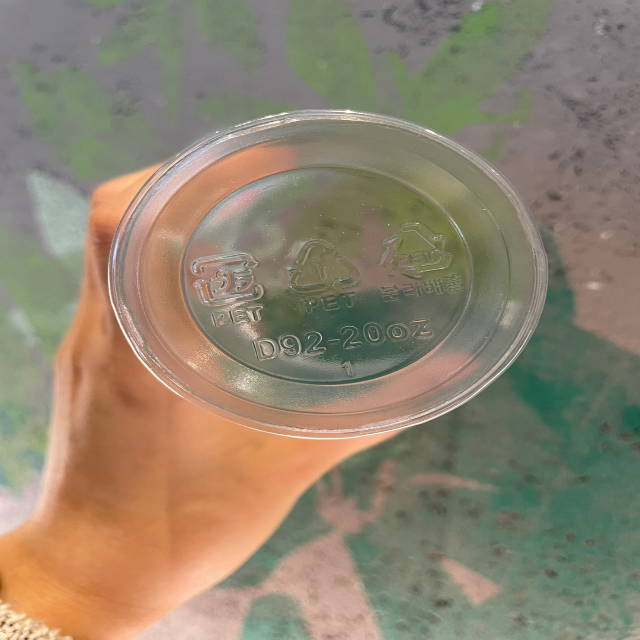pet: (377, 219, 467, 302), (186, 247, 269, 330), (284, 237, 362, 314)
